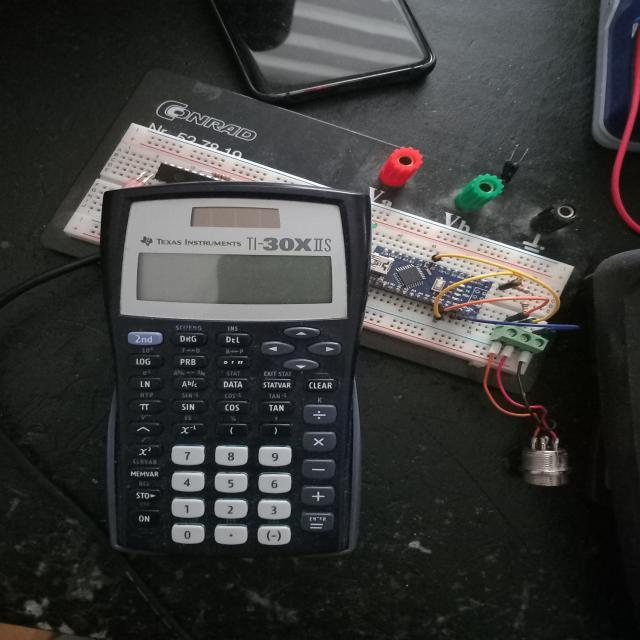Calculator: (99, 182, 373, 558)
